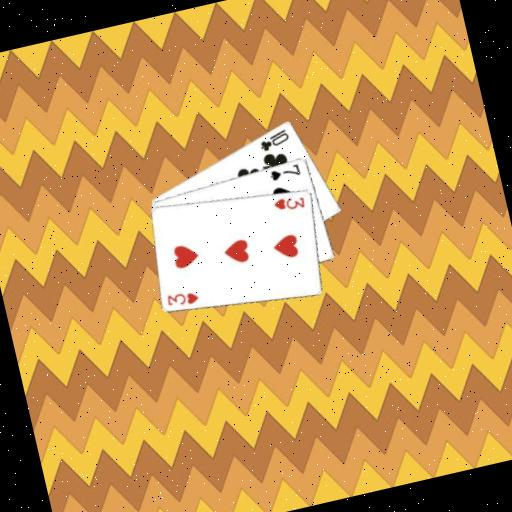10C: (255, 125, 293, 154)
3H: (163, 285, 201, 311), (270, 191, 308, 216)
7S: (265, 160, 302, 183)
